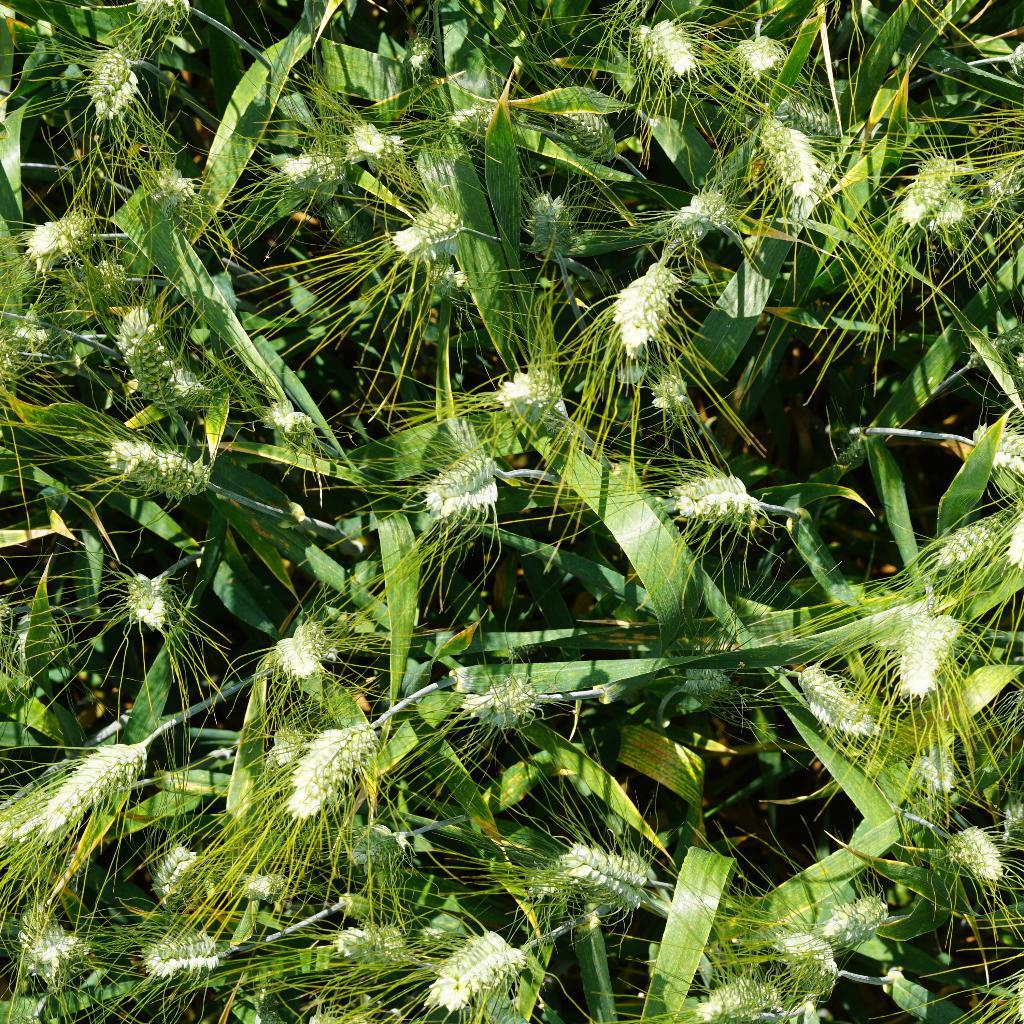0-0: (10, 724, 149, 840), (272, 703, 378, 819), (415, 915, 524, 1015), (598, 239, 688, 355), (96, 423, 216, 508), (109, 306, 192, 418), (314, 901, 417, 979), (545, 833, 653, 907), (785, 657, 879, 740), (664, 960, 783, 1024), (21, 191, 116, 271), (410, 452, 511, 527), (657, 460, 763, 530), (925, 493, 1014, 576), (889, 598, 959, 701), (479, 350, 565, 430), (757, 115, 829, 209), (460, 661, 553, 733), (545, 90, 632, 165), (766, 926, 849, 1000), (803, 882, 897, 946), (133, 919, 227, 983), (10, 908, 88, 979), (257, 616, 333, 688), (516, 187, 579, 273), (896, 139, 955, 228), (387, 191, 470, 254), (348, 822, 422, 888), (937, 823, 1008, 890), (767, 93, 847, 152), (430, 94, 511, 152), (72, 44, 138, 115), (638, 11, 702, 81), (74, 266, 145, 329), (0, 313, 55, 391), (108, 570, 176, 631), (317, 184, 377, 253), (141, 837, 198, 904), (971, 413, 1024, 484), (724, 21, 785, 82), (112, 0, 210, 36), (907, 732, 965, 792), (677, 645, 738, 702), (260, 395, 320, 447), (332, 116, 393, 167), (268, 142, 325, 195), (668, 186, 735, 231), (635, 362, 691, 415), (408, 919, 473, 964), (232, 862, 290, 911), (964, 323, 1024, 370), (826, 421, 876, 476), (972, 154, 1024, 206), (415, 254, 474, 298), (393, 26, 438, 79), (148, 164, 193, 212), (171, 376, 216, 415), (931, 194, 972, 232)
